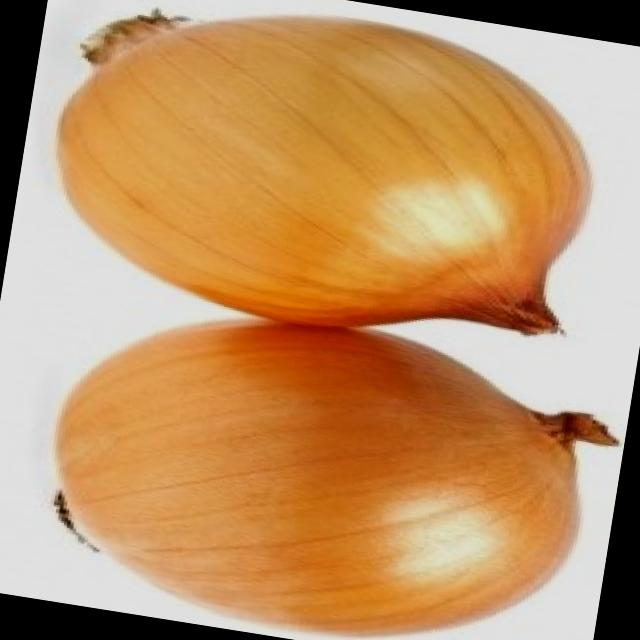onion: (22, 0, 630, 368), (20, 296, 621, 640)
